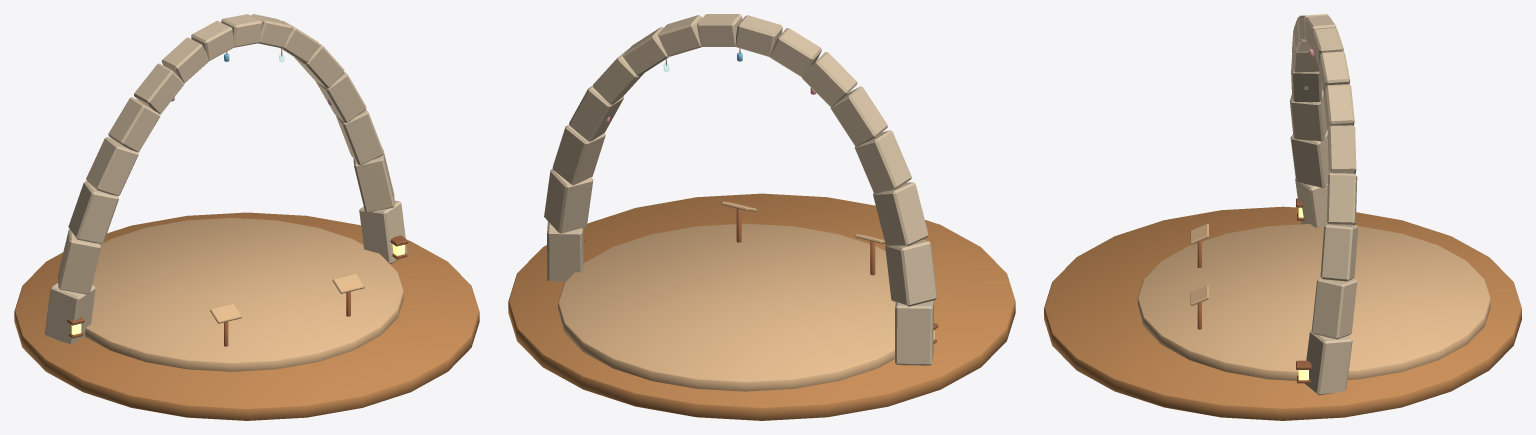
Rendered from F39-echo-amphitheater-arch.glb.
3 renders of one model, left to right at view 1: azimuth 30°, elevation 25°; view 2: azimuth 150°, elevation 25°; view 3: azimuth 270°, elevation 25°, orthographic. The views are drawn at different scales.
Visible parts, largest first — view 1: honey_wood, Stage_Step_1, driftwood, toasted_wood; view 2: honey_wood, Stage_Step_1, driftwood, toasted_wood; view 3: honey_wood, Stage_Step_1, driftwood, toasted_wood.
Boxes of the visible parts, box(x1,y1,x2,y2) form: honey_wood: box(84, 218, 403, 371); Stage_Step_1: box(14, 212, 479, 420); driftwood: box(44, 14, 407, 343); toasted_wood: box(67, 235, 408, 346); honey_wood: box(558, 201, 895, 391); Stage_Step_1: box(508, 193, 1015, 420); driftwood: box(544, 14, 937, 365); toasted_wood: box(583, 208, 938, 343); honey_wood: box(1137, 224, 1490, 380); Stage_Step_1: box(1044, 206, 1521, 420); driftwood: box(1290, 14, 1358, 395); toasted_wood: box(1197, 198, 1311, 383).
Size of the model in its own units: 9.2 by 6.23 by 9.2.
